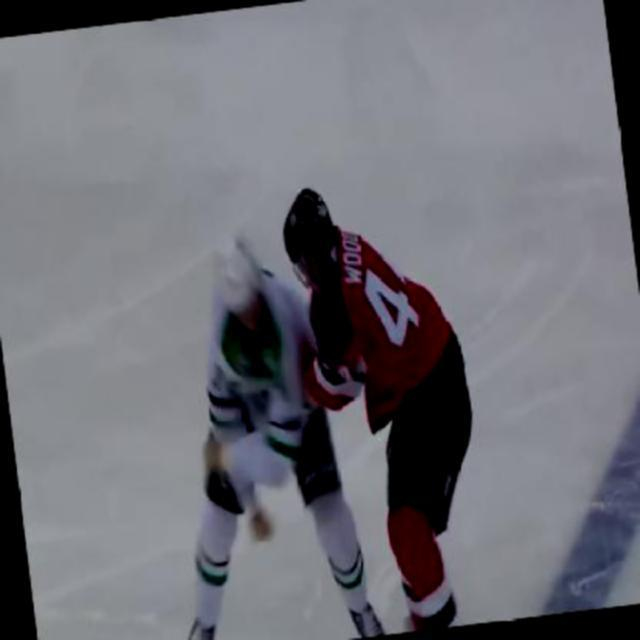fight: (168, 171, 500, 638)
